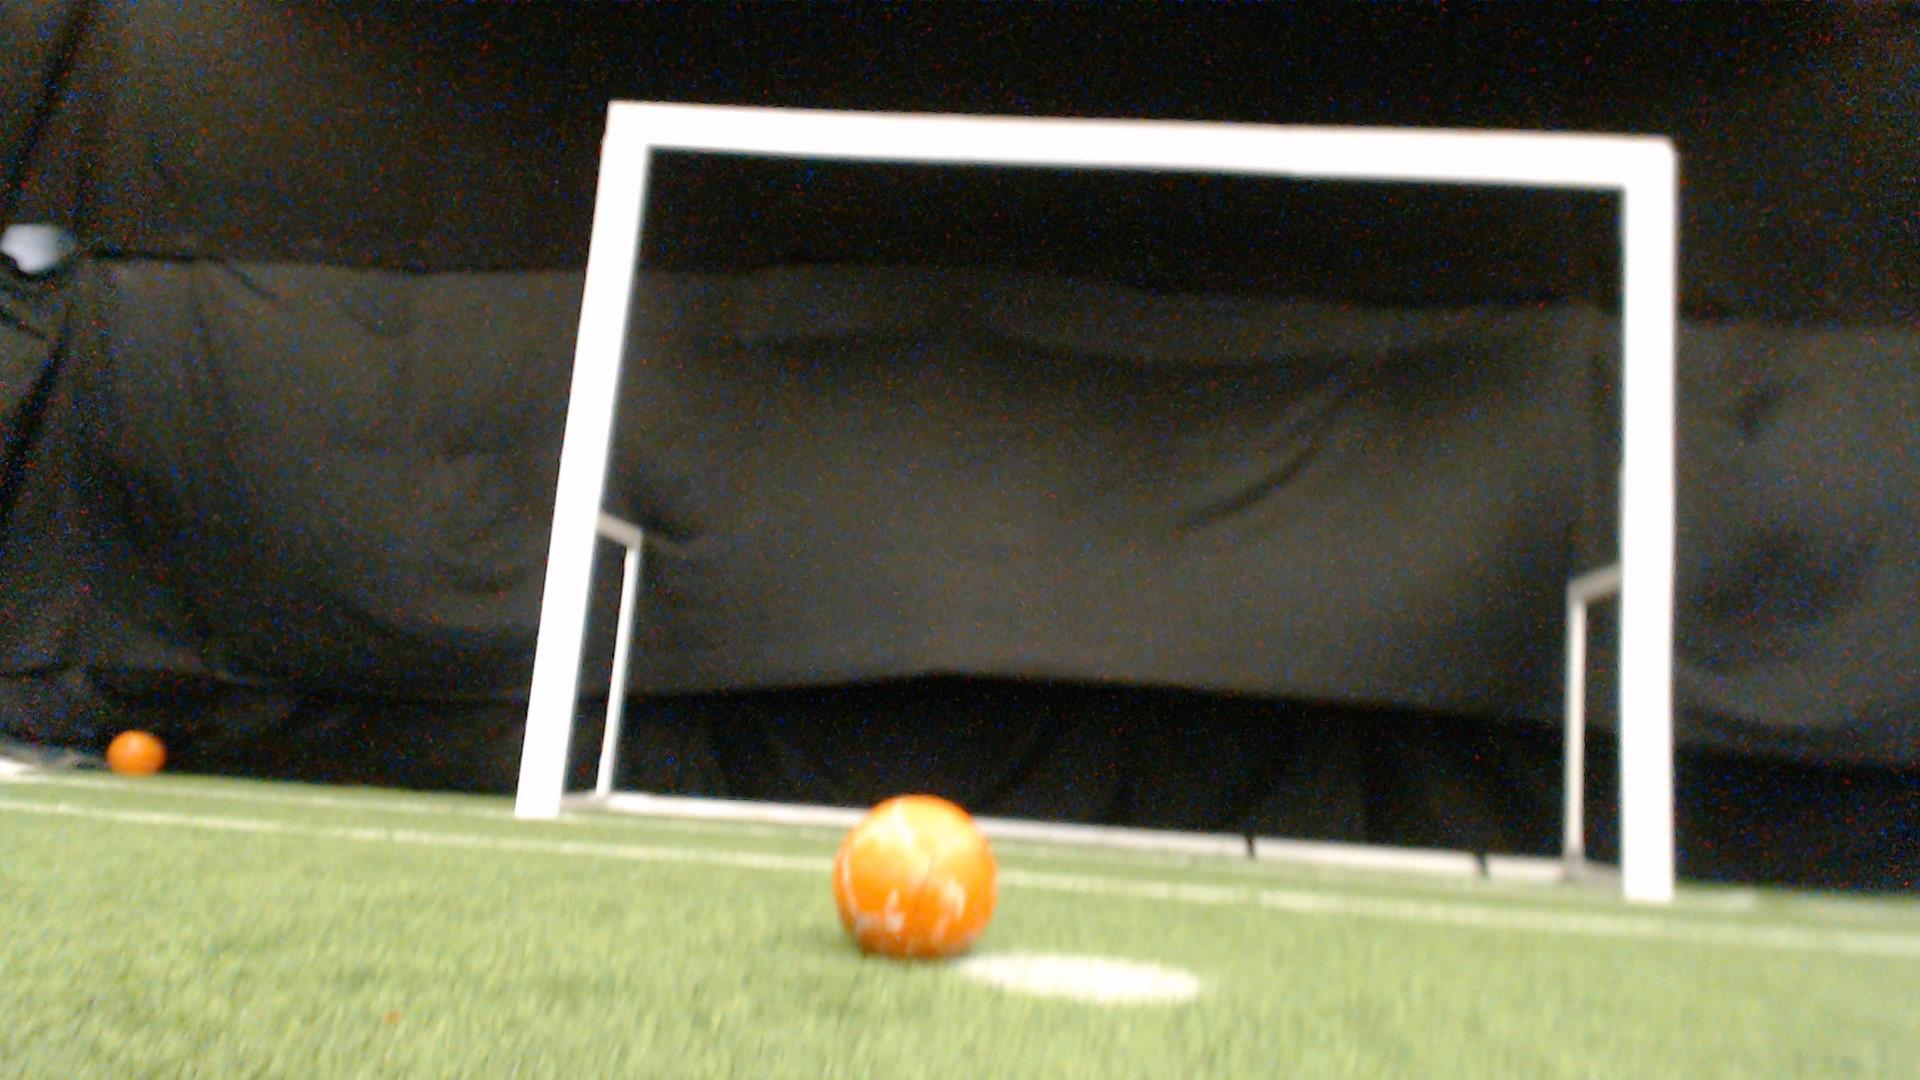bola: (832, 793, 1010, 984), (91, 725, 179, 790)
